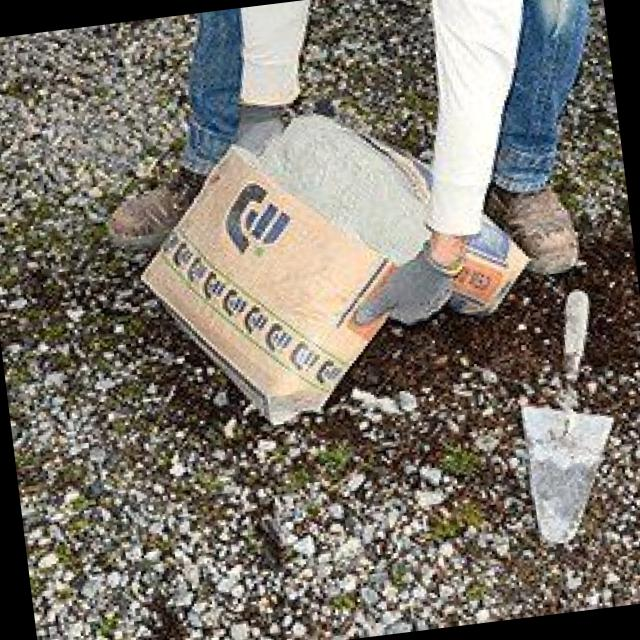KantongSemen: (94, 88, 546, 440)
